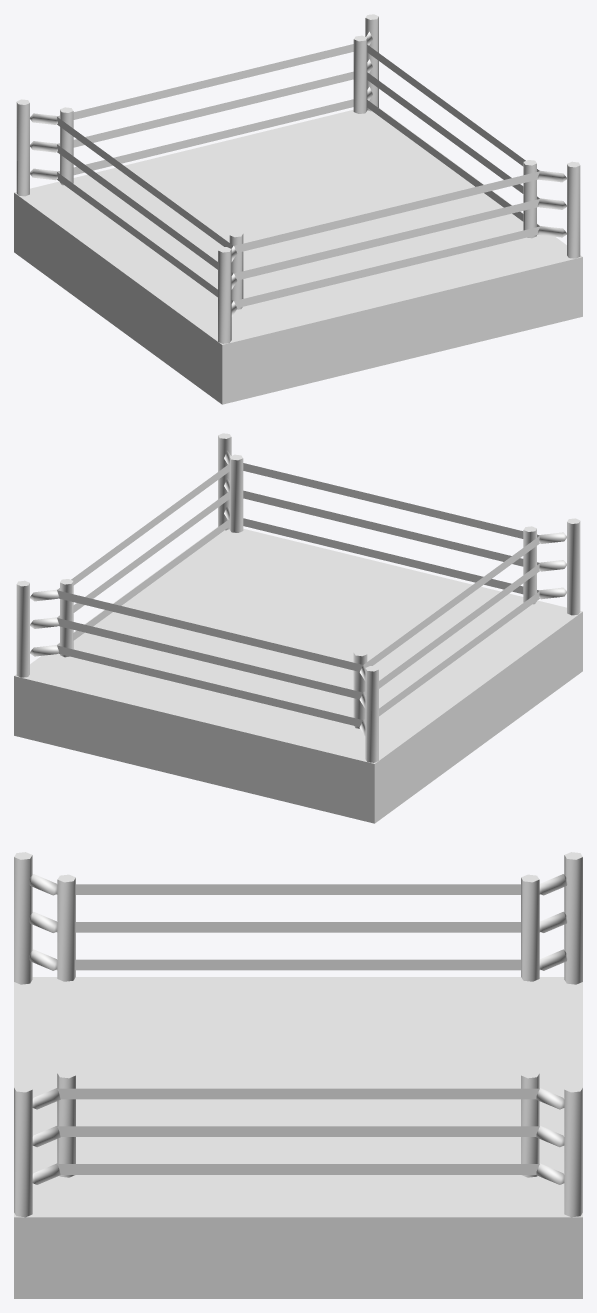
Rendered from fpz.ico.obj.
3 renders of one model, top to bottom at view 1: azimuth 30°, elevation 25°; view 2: azimuth 150°, elevation 25°; view 3: azimuth 270°, elevation 25°, orthographic. The views are drawn at different scales.
Bounding box in the file's own units: 4.71 × 1.88 × 4.71.
Materials: 1 (1 with a texture image).
